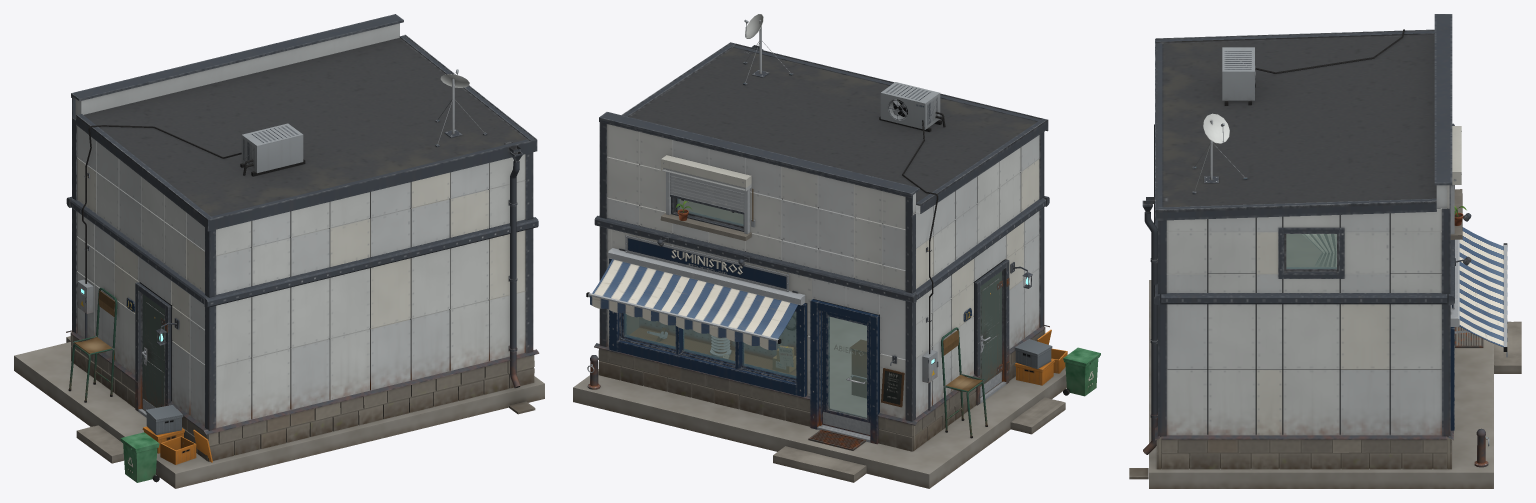
File: casa_comerciante.fbx
3 views of the same model, side by side, from view 1: azimuth 30°, elevation 25°; view 2: azimuth 150°, elevation 25°; view 3: azimuth 270°, elevation 25° (orthographic). The views are drawn at different scales.
Visible parts, largest first — view 1: casa_paredes, casa_techo, casa_base, casa_zocalo, moldura_forjado, aire_acondicionado, puerta_lateral, cajas_mercancia, puerta_lateral_marco, bajante, silla_plegable, escalon_lateral (+3 smaller); view 2: casa_paredes, casa_techo, casa_base, casa_zocalo, toldo_tela, escaparate_marco, moldura_forjado, escaparate_cristal, puerta_tienda_cristal, puerta_tienda_marco, escaparate_expositor, cartel_tienda (+21 smaller); view 3: casa_paredes, casa_techo, casa_base, casa_zocalo, toldo_tela, moldura_forjado, aire_acondicionado, ventana_lateral_marco, ventana_lateral_cristal, bajante, escalon_tienda, antena (+5 smaller).
Part boxes in pixels (box(x1,y1,x2,y2)): casa_paredes: box(71, 14, 533, 430); casa_techo: box(76, 34, 537, 231); casa_base: box(14, 342, 544, 488); casa_zocalo: box(66, 330, 539, 461); moldura_forjado: box(66, 196, 538, 307); aire_acondicionado: box(240, 123, 305, 176); puerta_lateral: box(141, 294, 164, 410); cajas_mercancia: box(142, 405, 212, 464); puerta_lateral_marco: box(135, 282, 171, 417); bajante: box(508, 151, 522, 388); silla_plegable: box(68, 288, 117, 402); escalon_lateral: box(76, 425, 124, 463); casa_paredes: box(599, 112, 1044, 421); casa_techo: box(621, 42, 1048, 213); casa_base: box(573, 317, 1066, 488); casa_zocalo: box(594, 325, 1049, 451); toldo_tela: box(590, 259, 797, 350); escaparate_marco: box(609, 258, 806, 397); moldura_forjado: box(594, 196, 1049, 302); escaparate_cristal: box(624, 312, 796, 377); puerta_tienda_cristal: box(828, 316, 866, 418); puerta_tienda_marco: box(810, 299, 879, 444); escaparate_expositor: box(629, 312, 796, 375); cartel_tienda: box(625, 235, 788, 291); casa_paredes: box(1158, 14, 1452, 437); casa_techo: box(1146, 29, 1436, 222); casa_base: box(1129, 280, 1493, 488); casa_zocalo: box(1155, 426, 1453, 469); toldo_tela: box(1459, 227, 1507, 356); moldura_forjado: box(1154, 123, 1454, 305); aire_acondicionado: box(1222, 47, 1255, 105); ventana_lateral_marco: box(1278, 227, 1344, 278); ventana_lateral_cristal: box(1286, 234, 1336, 268); bajante: box(1142, 200, 1157, 454); escalon_tienda: box(1494, 321, 1521, 373); antena: box(1192, 113, 1247, 194).
Size of the model in its own units: 13.74 by 10.52 by 10.98.
Materials: 3 (1 with a texture image).
